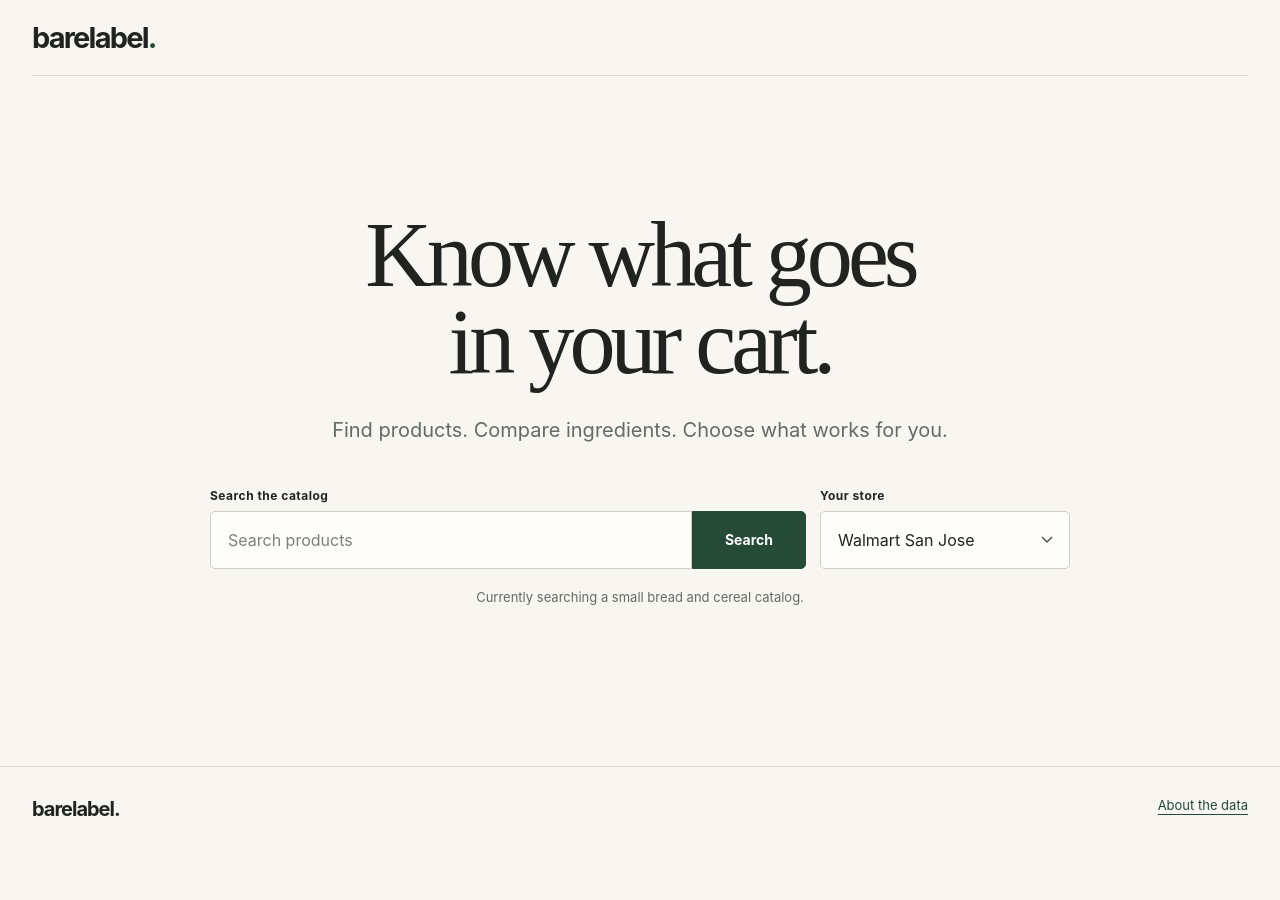
search-first shopper flow › shows an honest empty state and returns home from the wordmark
Type "salsa" into the search field labelled "Search the catalog" at x=451, y=540, box x1=210 y1=511 x2=692 y2=569
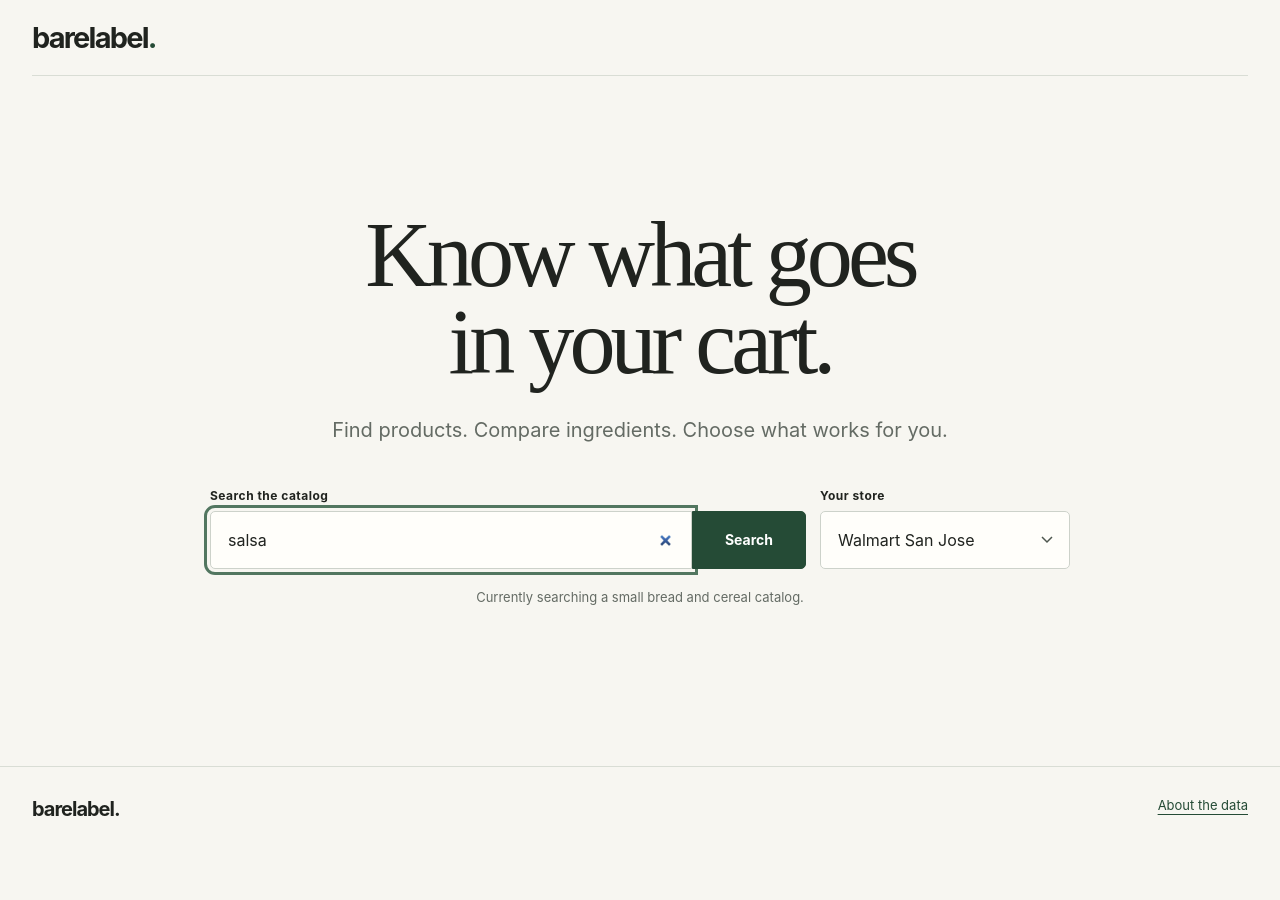
Click the button with aria-label "Search products" at x=749, y=540, box x1=692 y1=511 x2=806 y2=569
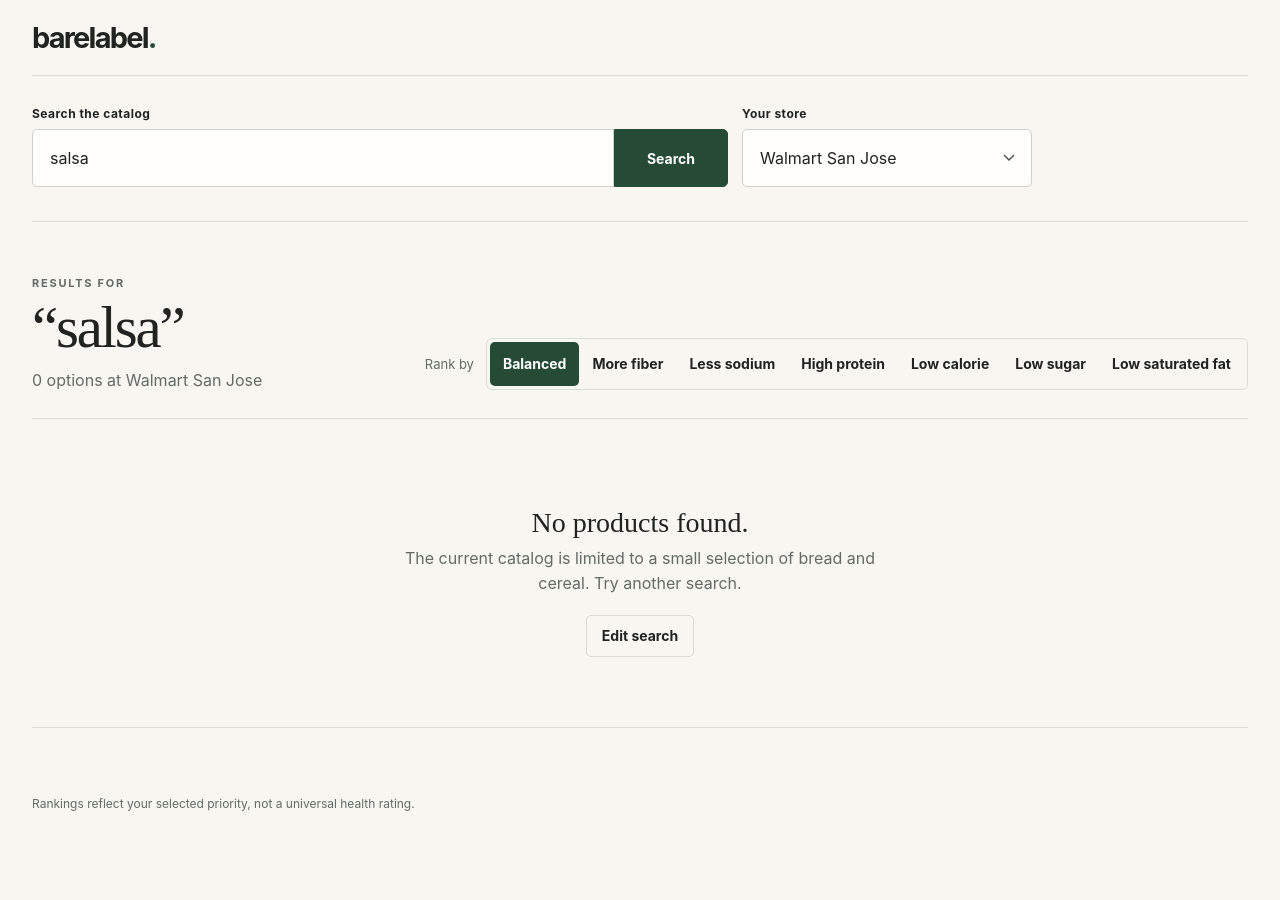
Expected: the heading "No products found." is shown, x1=532 y1=507 x2=748 y2=539
Click the button with aria-label "barelabel home" at x=94, y=38, box x1=32 y1=16 x2=156 y2=58
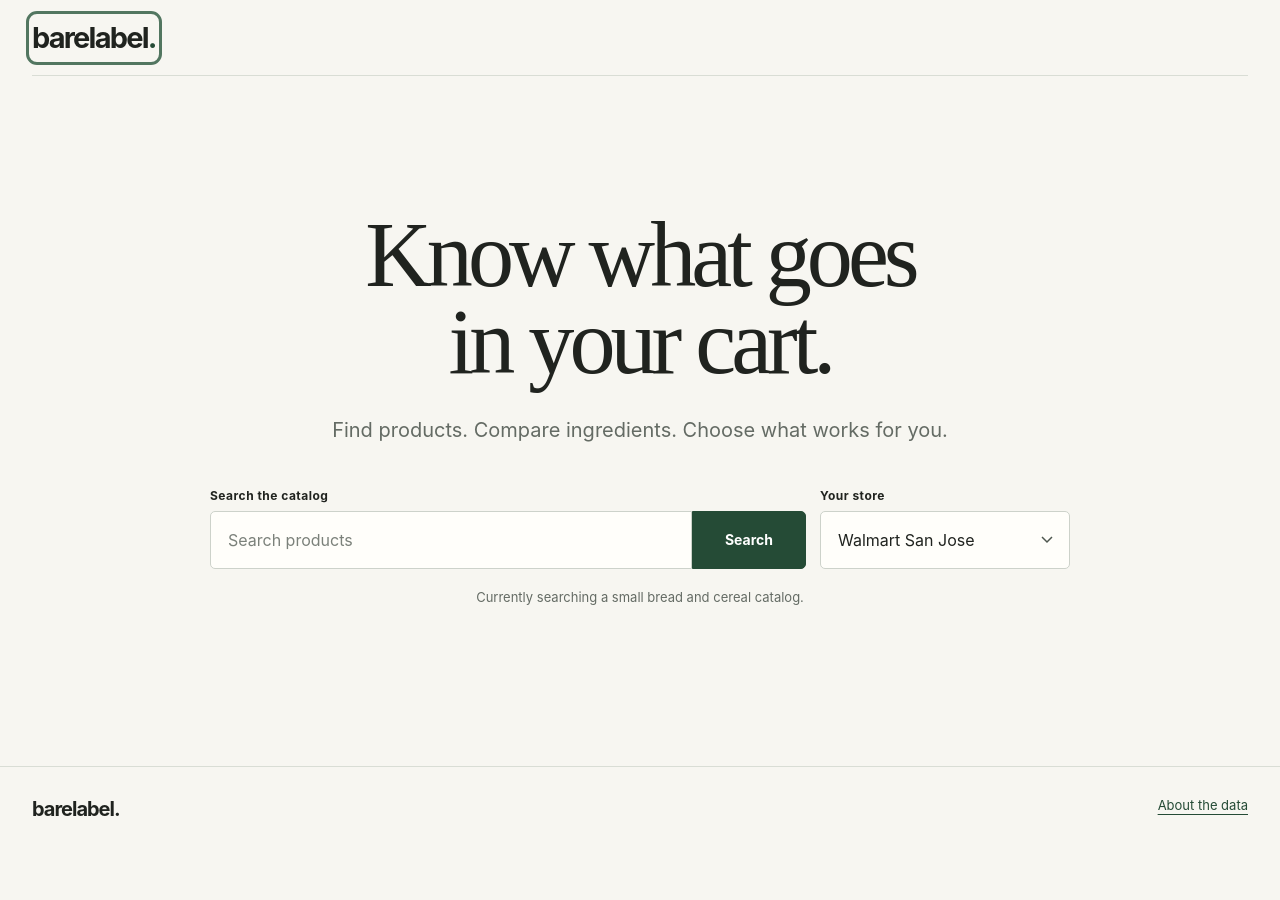
Expected: the heading named "Know what goes in your cart." is shown, x1=365 y1=204 x2=915 y2=393
Expected: the heading "No products found." is gone
